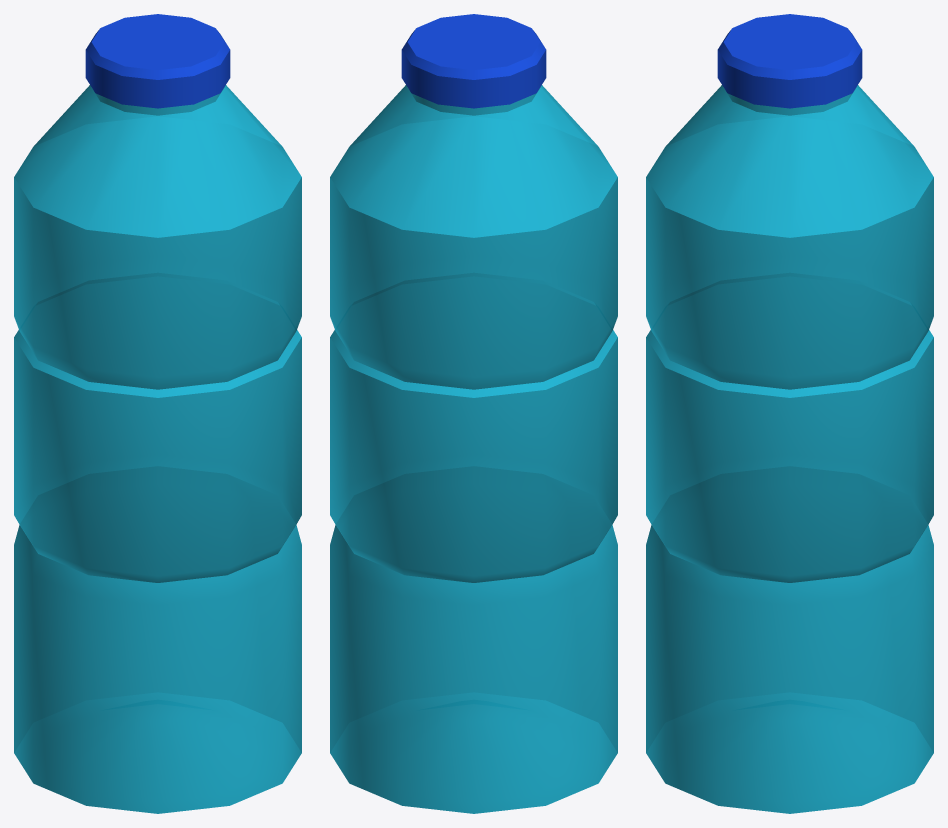
The model's file is low-poly_empty_plastic_bottle.glb.
3 views of the same model, side by side, from view 1: azimuth 30°, elevation 25°; view 2: azimuth 150°, elevation 25°; view 3: azimuth 270°, elevation 25° (orthographic).
Parts seen in each view (by area): view 1: Cylinder; view 2: Cylinder; view 3: Cylinder.
Boxes of the visible parts, left/top/right/bottom form: Cylinder: left=14, top=14, right=301, bottom=813; Cylinder: left=330, top=14, right=617, bottom=813; Cylinder: left=646, top=14, right=933, bottom=813.
Bounding box in the file's own units: 729 × 1986 × 729.
Materials: 1 (1 with a texture image).
